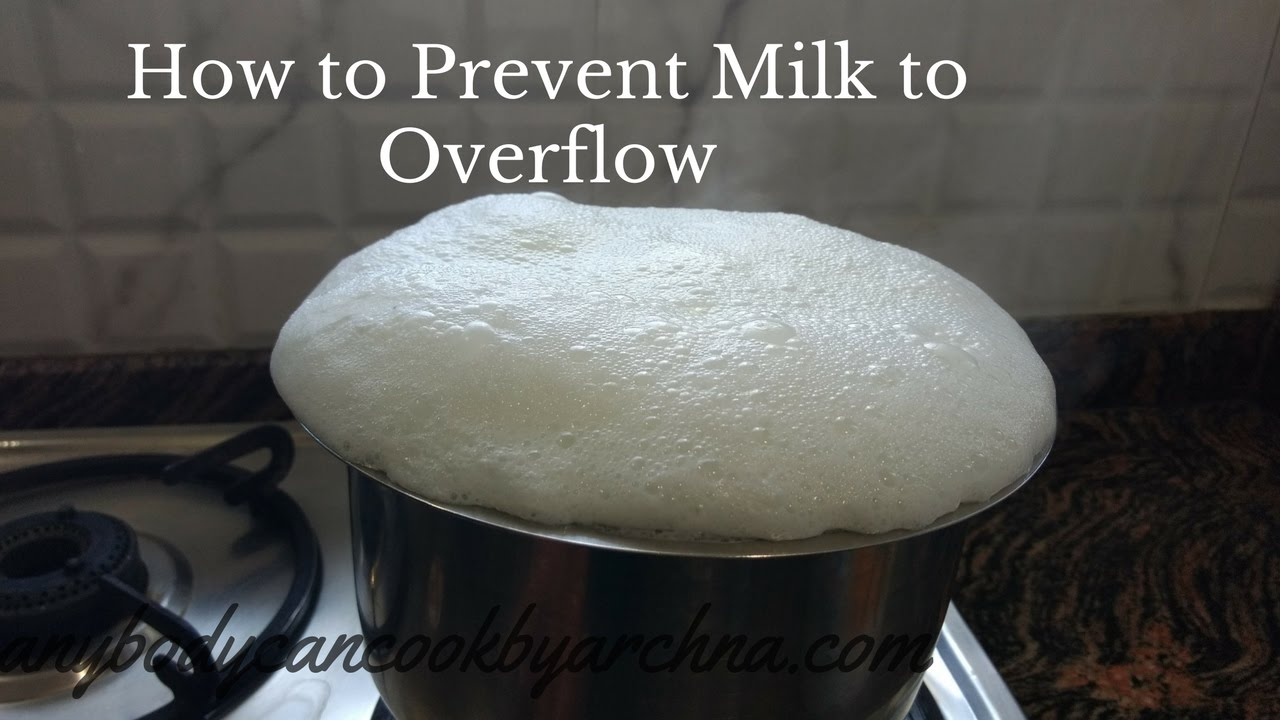Boiled: (256, 189, 1149, 720)
